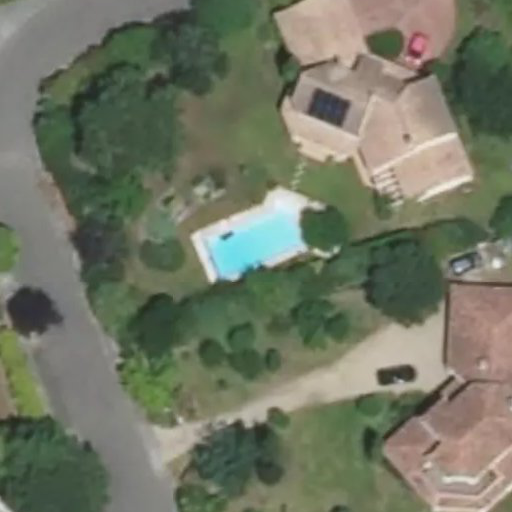pool: (206, 212, 303, 275)
